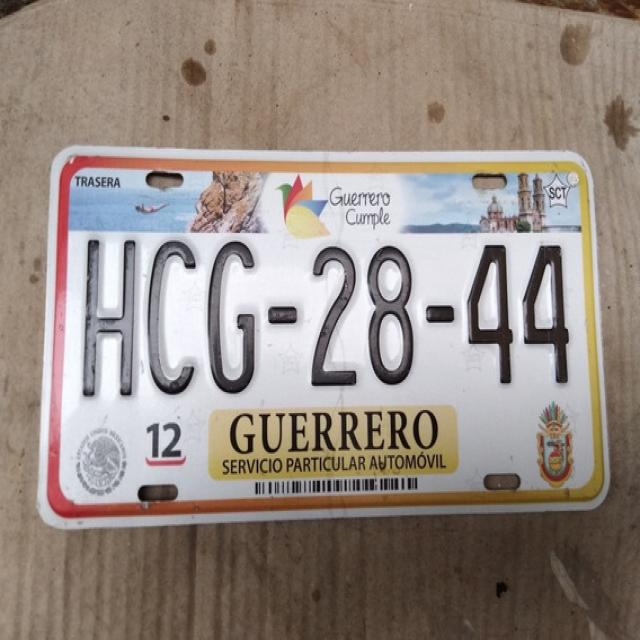placa: (64, 223, 590, 400)
